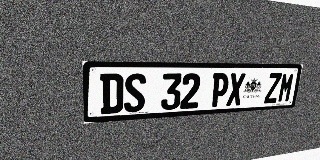2: (180, 73, 201, 109)
3: (161, 73, 182, 110)
D: (100, 73, 124, 114)
M: (277, 73, 295, 103)
P: (210, 73, 230, 107)
S: (124, 73, 146, 113)
X: (226, 73, 246, 106)
Z: (264, 73, 282, 104)
